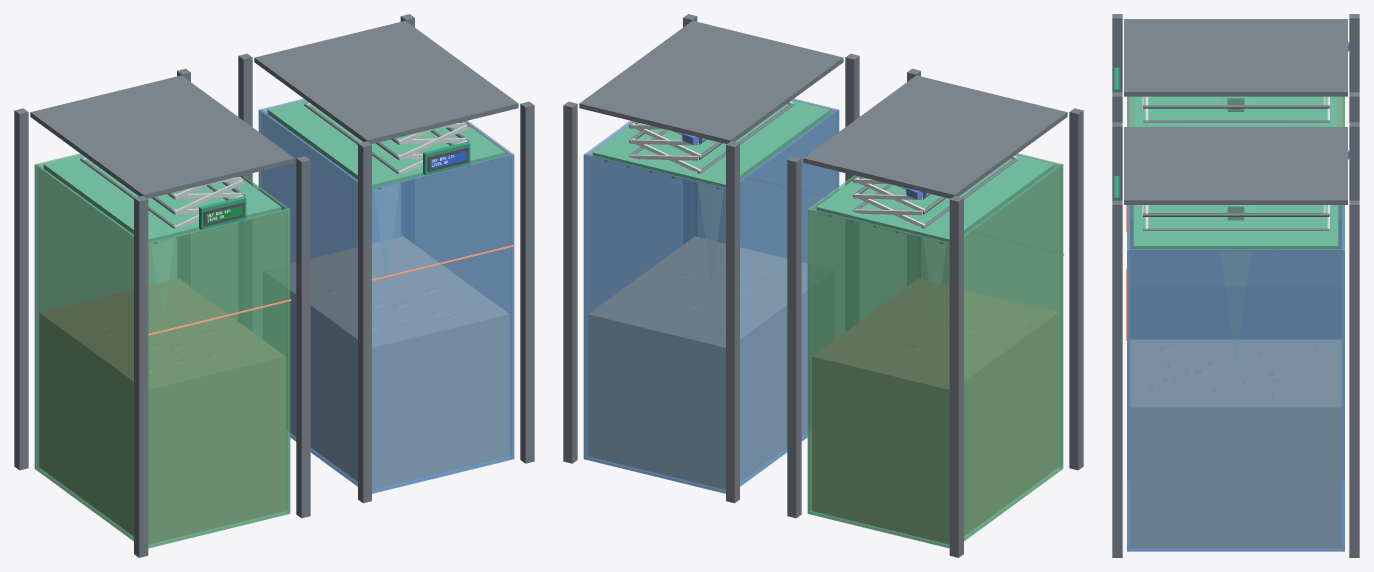
Rendered from compactors.glb.
The picture shows the model from 3 angles, left to right: view 1: azimuth 30°, elevation 25°; view 2: azimuth 150°, elevation 25°; view 3: azimuth 270°, elevation 25°; orthographic projection.
Parts seen in each view (by area): view 1: Compactors, WET_bin_260_x_340_x_520_, DRY_bin_260_x_340_x_520_, object 9, Fixed_top_plate_both_bins_, Press_plate_both_bins_, object 10, WET_level_LCD, DRY_level_LCD; view 2: Compactors, WET_bin_260_x_340_x_520_, DRY_bin_260_x_340_x_520_, object 9, Fixed_top_plate_both_bins_, Press_plate_both_bins_, object 10; view 3: DRY_bin_260_x_340_x_520_, Compactors, Fixed_top_plate_both_bins_, object 9, object 10, Press_plate_both_bins_, WET_bin_260_x_340_x_520_, object 24, Fill_sensor_HC_SR04_both_bins_.
Part boxes in pixels (box(x1,y1,x2,y2)): Compactors: box(14, 14, 534, 557); WET_bin_260_x_340_x_520_: box(34, 153, 291, 548); DRY_bin_260_x_340_x_520_: box(258, 98, 515, 493); object 9: box(254, 20, 518, 143); Fixed_top_plate_both_bins_: box(30, 75, 294, 198); Press_plate_both_bins_: box(43, 155, 281, 243); object 10: box(267, 100, 505, 189); WET_level_LCD: box(199, 196, 246, 229); DRY_level_LCD: box(423, 141, 470, 175); Compactors: box(563, 14, 1083, 557); WET_bin_260_x_340_x_520_: box(807, 153, 1064, 548); DRY_bin_260_x_340_x_520_: box(583, 98, 839, 493); object 9: box(579, 20, 843, 143); Fixed_top_plate_both_bins_: box(803, 75, 1067, 198); Press_plate_both_bins_: box(816, 155, 1054, 243); object 10: box(592, 100, 830, 189); DRY_bin_260_x_340_x_520_: box(1126, 205, 1344, 551); Compactors: box(1112, 14, 1359, 557); Fixed_top_plate_both_bins_: box(1124, 19, 1347, 96); object 9: box(1124, 127, 1347, 204); object 10: box(1133, 205, 1338, 250); Press_plate_both_bins_: box(1133, 96, 1338, 126); WET_bin_260_x_340_x_520_: box(1126, 96, 1344, 248); object 24: box(1215, 205, 1256, 221); Fill_sensor_HC_SR04_both_bins_: box(1217, 97, 1254, 112).
Size of the model in its own units: 706 by 608 by 386.
Materials: 21 (2 with a texture image).
